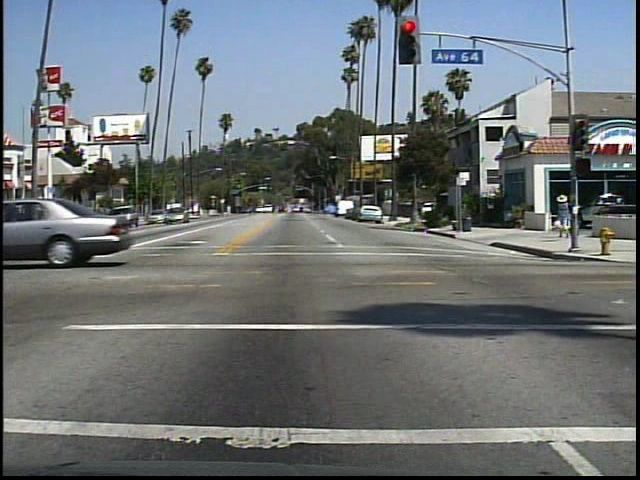person: (553, 189, 578, 243)
